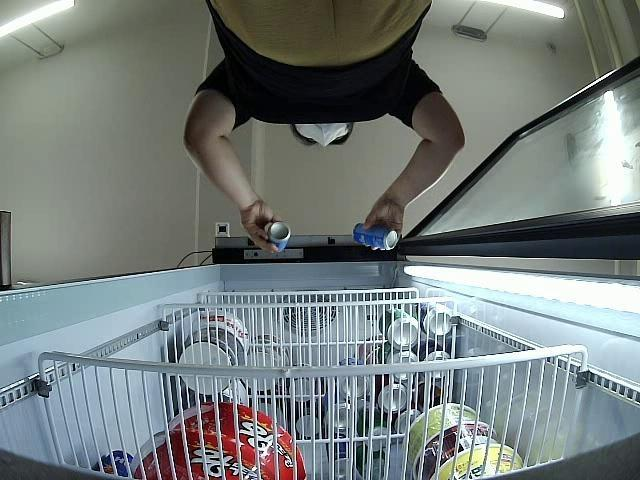15_letsbe: (351, 223, 400, 250), (266, 221, 291, 253)
